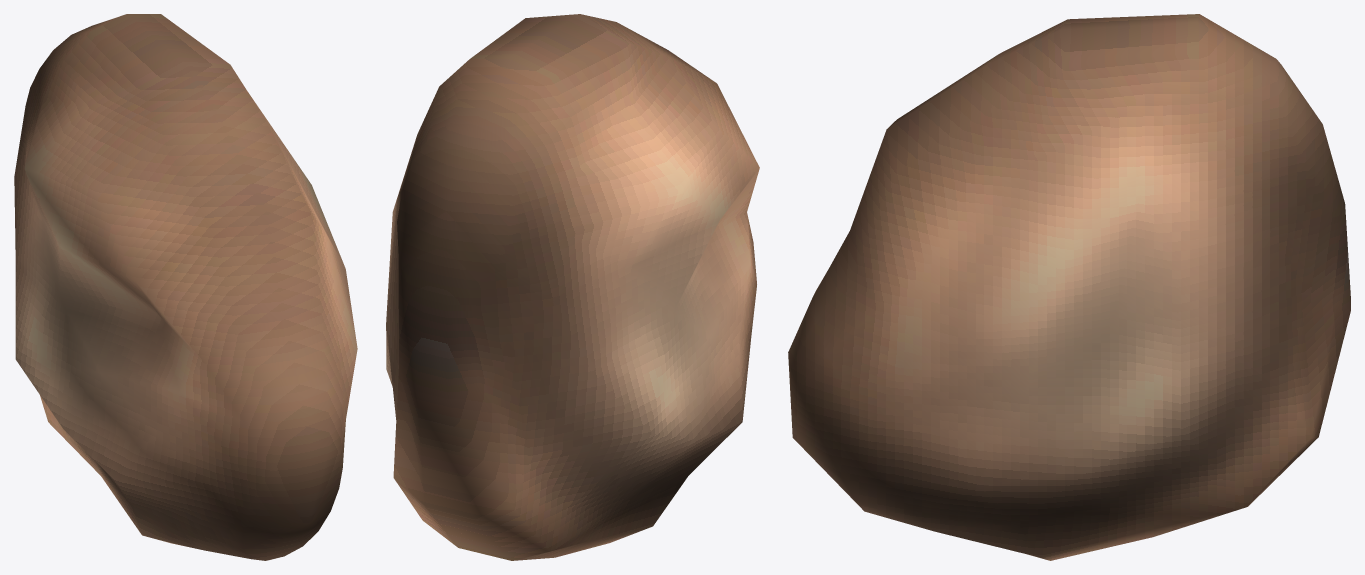
Rendered from THROWINGSTONE.fbx.
3 views of the same model, side by side, from view 1: azimuth 30°, elevation 25°; view 2: azimuth 150°, elevation 25°; view 3: azimuth 270°, elevation 25° (orthographic). The views are drawn at different scales.
Visible parts, largest first — view 1: THROWINGSTONE; view 2: THROWINGSTONE; view 3: THROWINGSTONE.
Part boxes in pixels (x1,y1,x2,y2): THROWINGSTONE: [14, 14, 357, 560]; THROWINGSTONE: [386, 14, 759, 560]; THROWINGSTONE: [788, 14, 1350, 560].
Size of the model in its own units: 808 by 1453 by 1407.
1 material, 1 textured.
